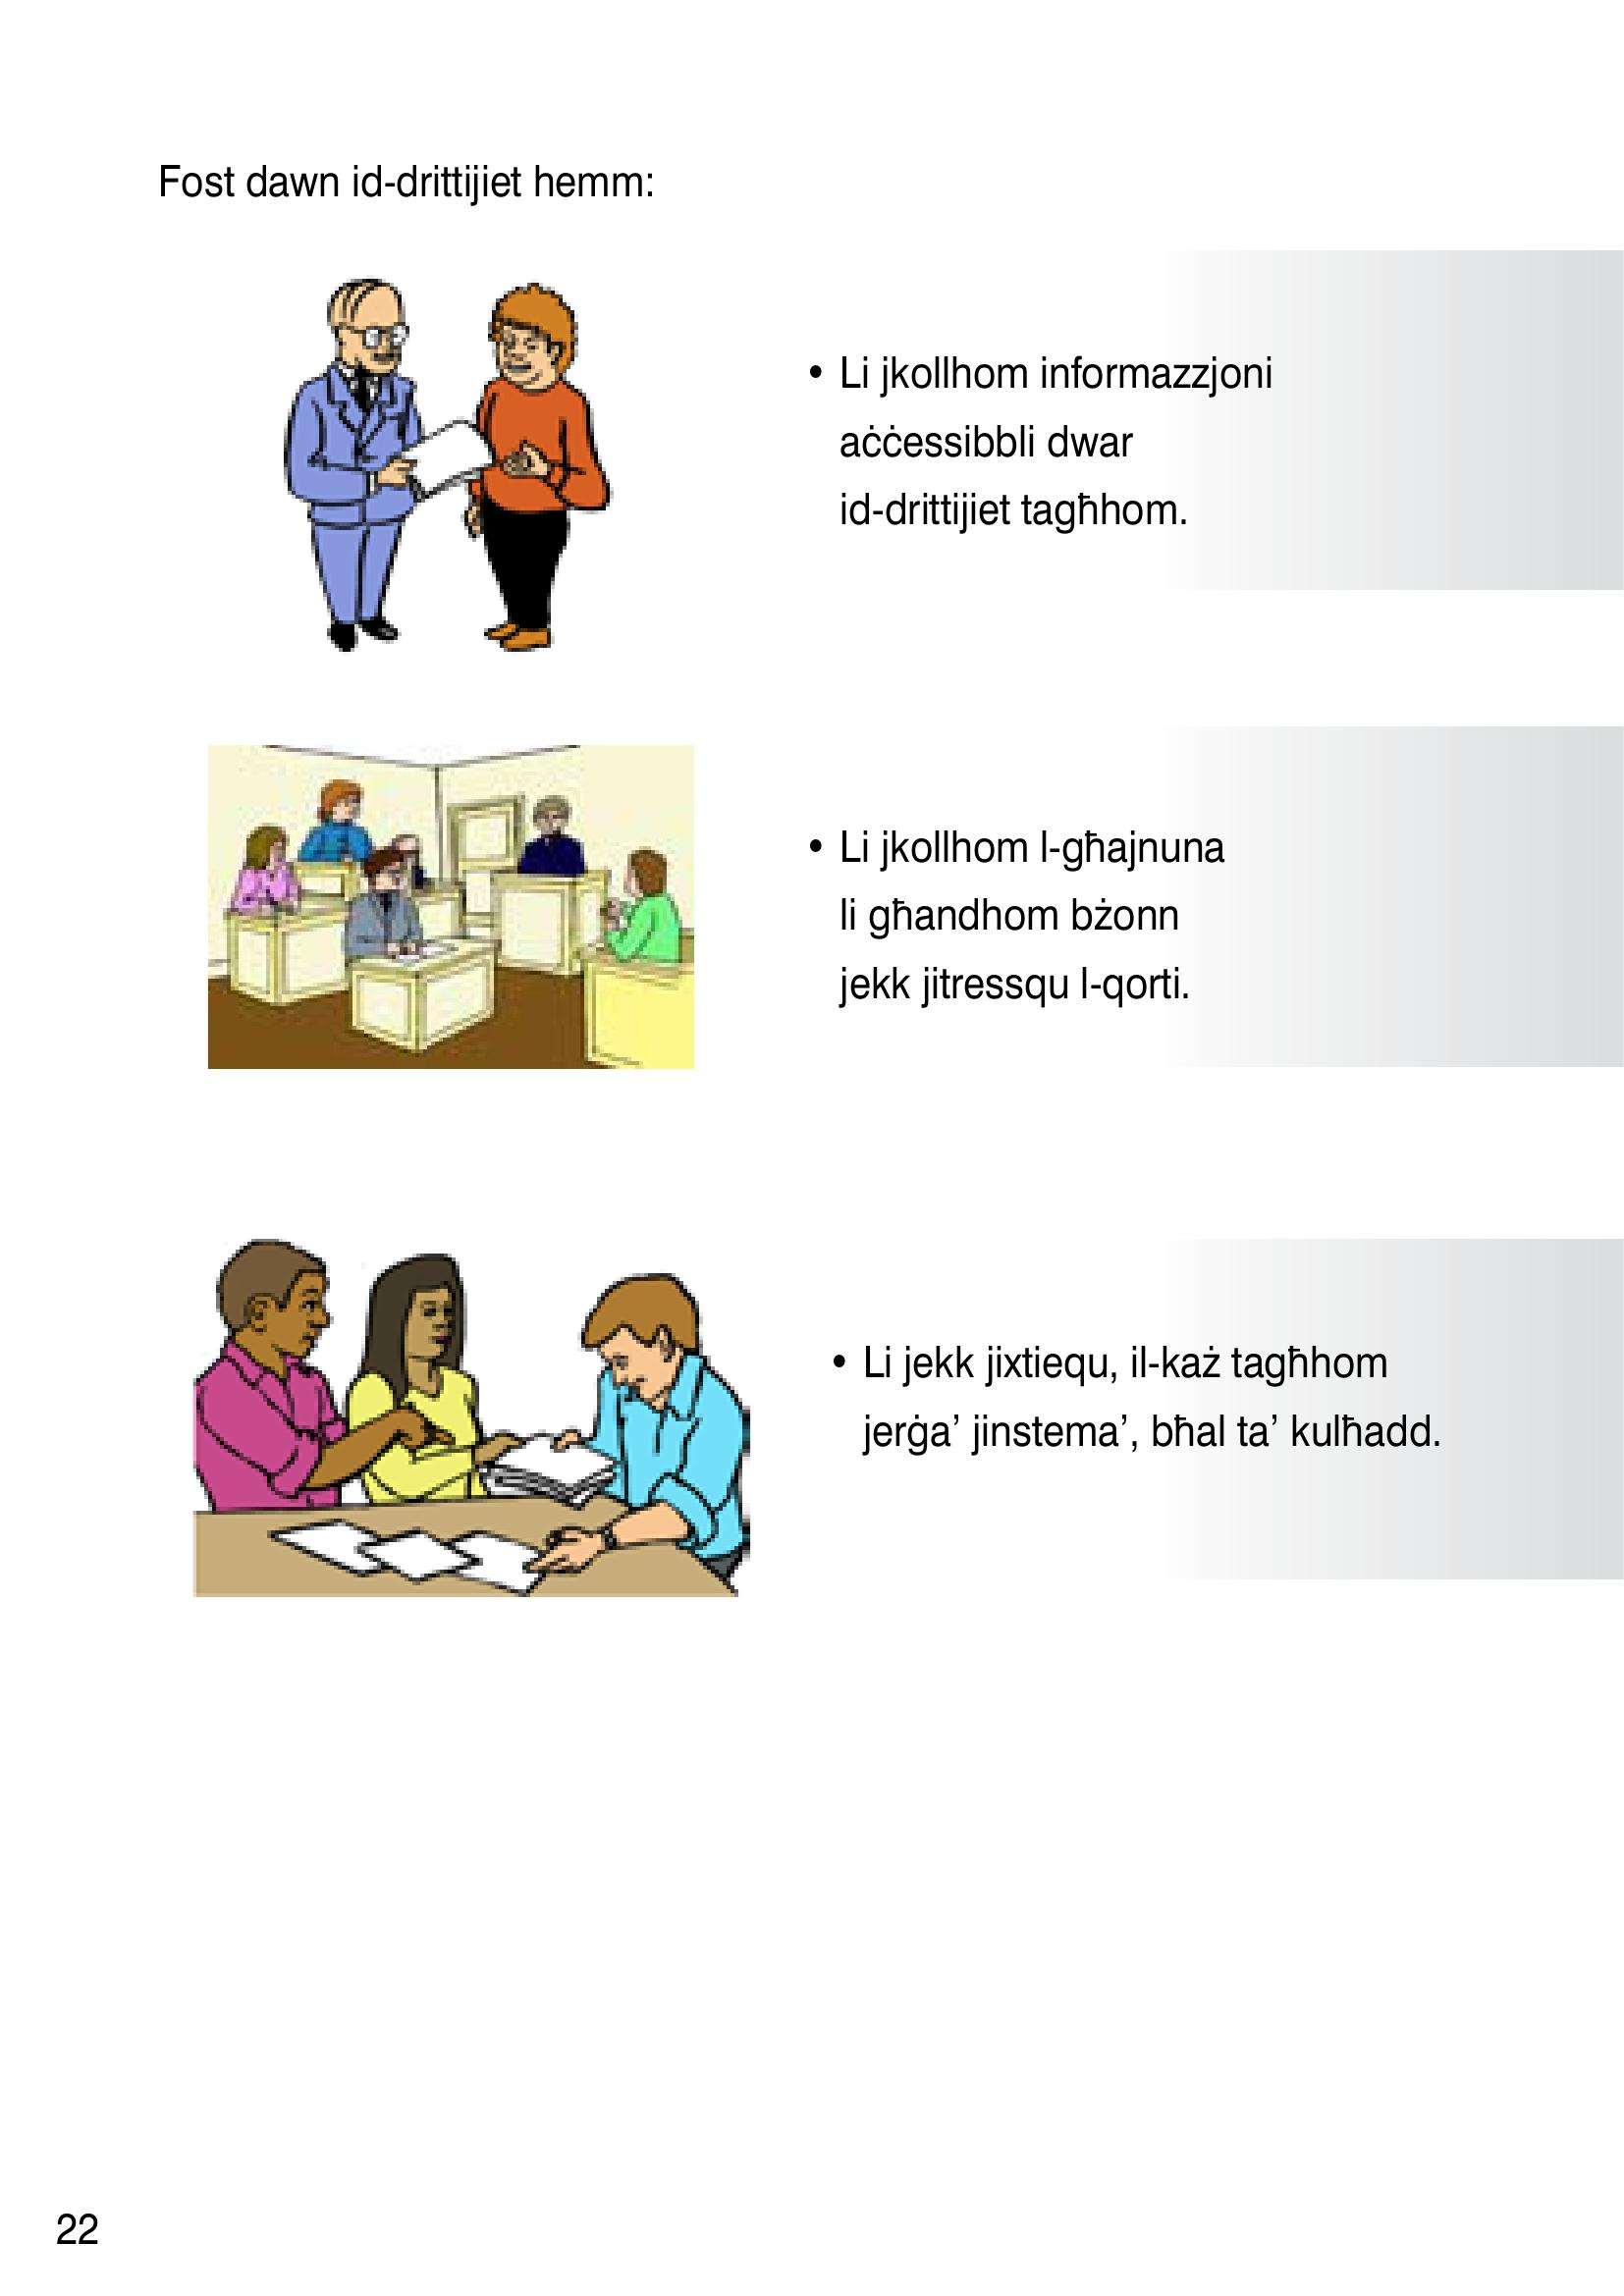text: (768, 285, 1469, 1518), (123, 130, 685, 230)
